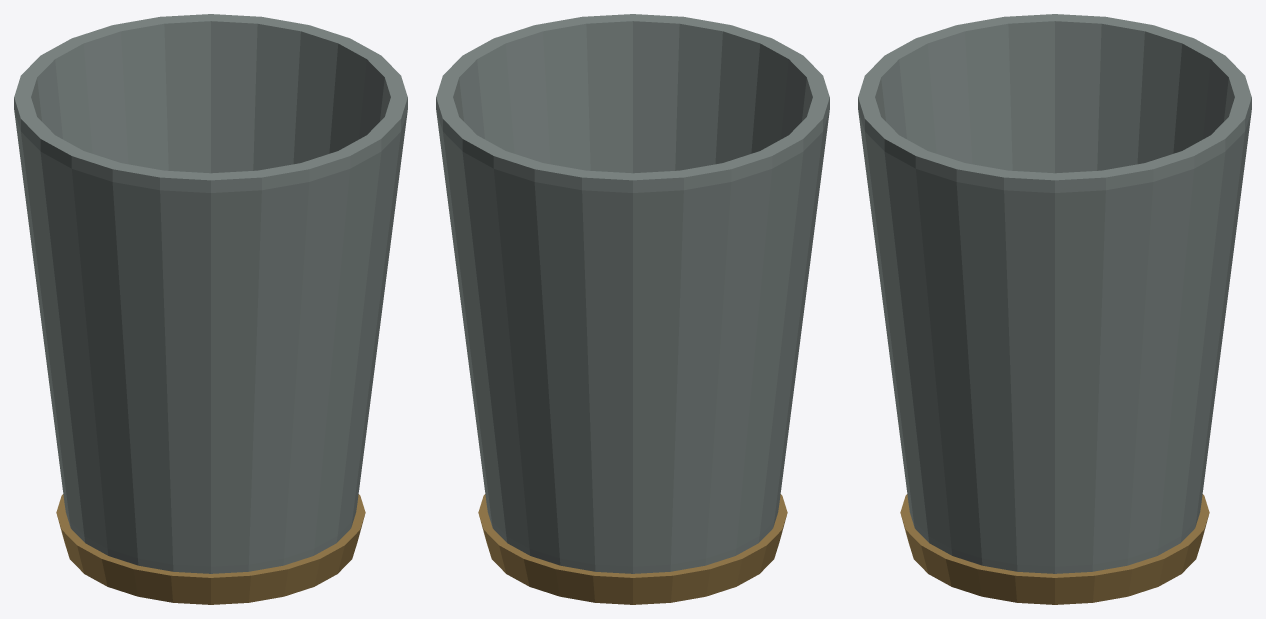
The model's file is Check_Shaker.fbx.
3 renders of one model, left to right at view 1: azimuth 30°, elevation 25°; view 2: azimuth 150°, elevation 25°; view 3: azimuth 270°, elevation 25°, orthographic.
Parts seen in each view (by area): view 1: shaker shell, base ring; view 2: shaker shell, base ring; view 3: shaker shell, base ring.
Part boxes in pixels (bbox=[...]): shaker shell: bbox=[14, 14, 407, 573]; base ring: bbox=[56, 494, 365, 604]; shaker shell: bbox=[436, 14, 829, 573]; base ring: bbox=[478, 494, 787, 604]; shaker shell: bbox=[858, 14, 1251, 573]; base ring: bbox=[900, 494, 1209, 604].
Bounding box in the file's own units: 14 × 17.5 × 14.
